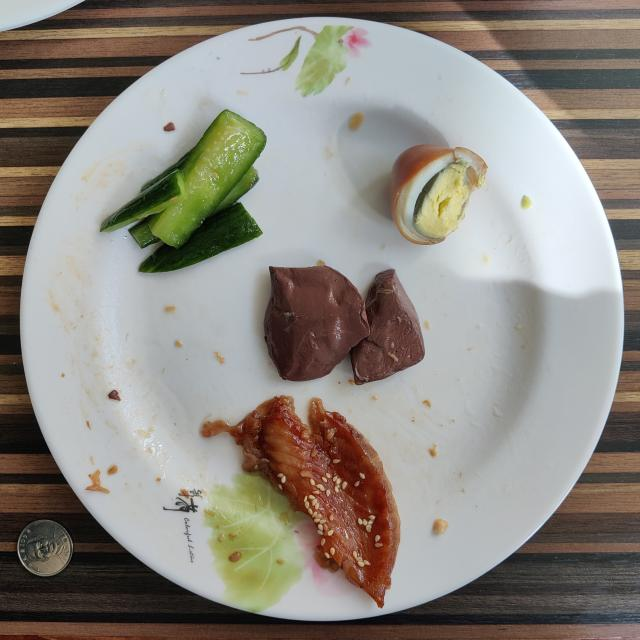Kabayaki sea bream fillet: (201, 395, 400, 608)
coin: (18, 520, 72, 576)
cucumber: (100, 110, 266, 272)
pig blood curd: (264, 265, 425, 385)
soy egg: (389, 145, 488, 245)
